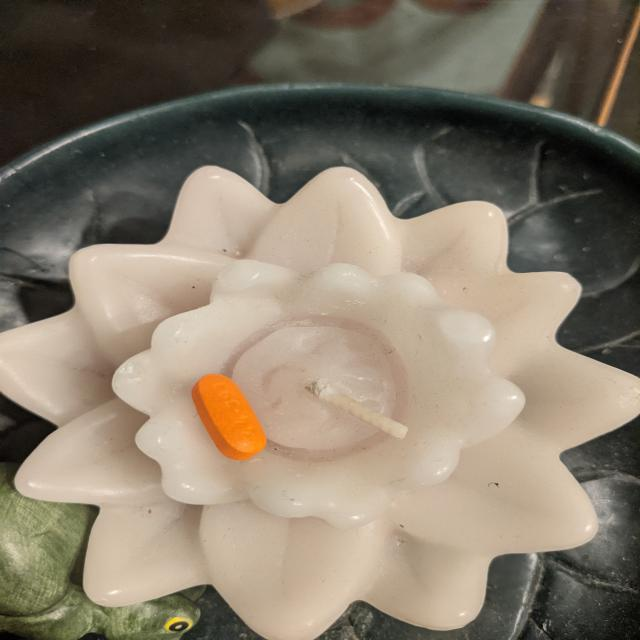non-organic waste: (190, 373, 268, 462)
